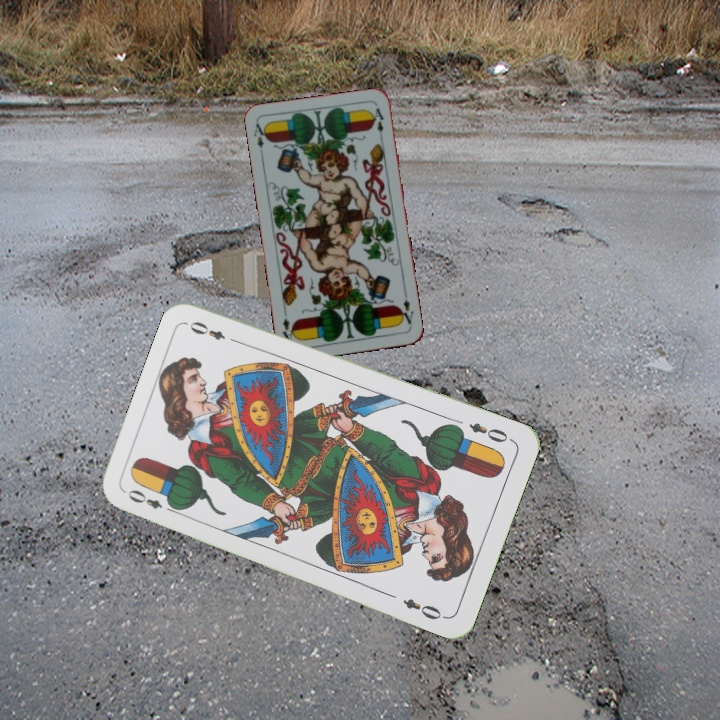EA: (249, 120, 270, 159), (396, 289, 416, 327)
EO: (123, 485, 180, 516), (465, 418, 515, 446)
